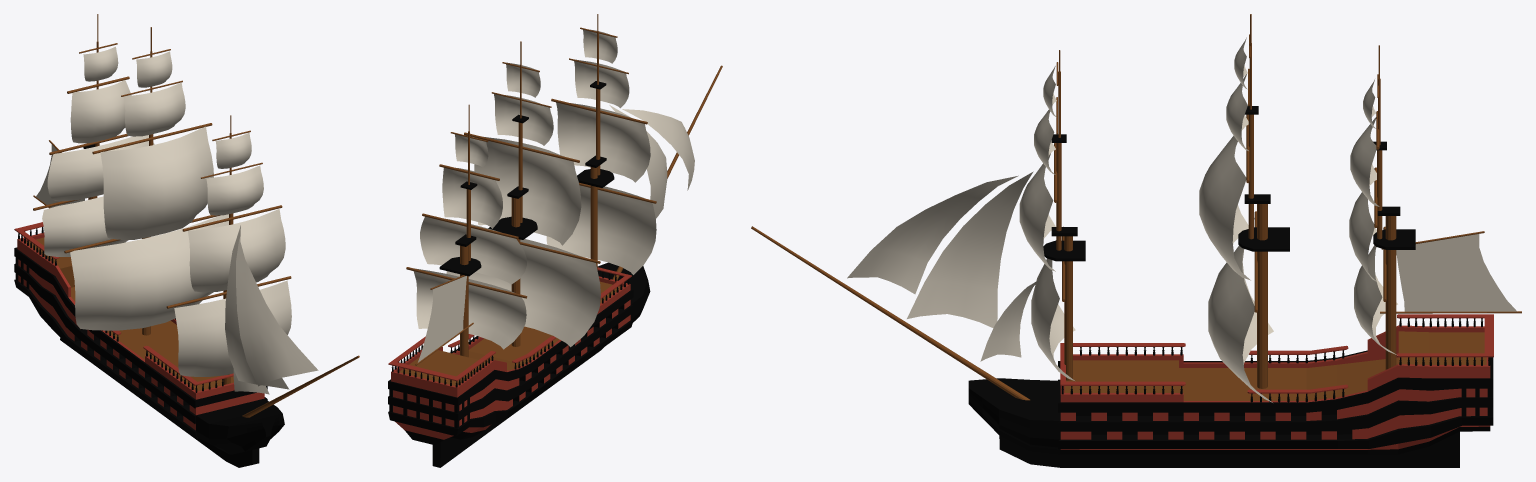
Rendered from Man O' War.glb.
3 renders of one model, left to right at view 1: azimuth 30°, elevation 25°; view 2: azimuth 150°, elevation 25°; view 3: azimuth 270°, elevation 25°, orthographic. The views are drawn at different scales.
Parts seen in each view (by area): view 1: Sails, Body, Poles; view 2: Sails, Body, Poles; view 3: Body, Sails, Poles.
Boxes of the visible parts, left/top/right/bottom form: Sails: left=36, top=46, right=318, bottom=394; Body: left=14, top=222, right=284, bottom=467; Poles: left=33, top=14, right=359, bottom=417; Sails: left=413, top=29, right=694, bottom=362; Body: left=388, top=262, right=650, bottom=467; Poles: left=406, top=14, right=722, bottom=365; Body: left=968, top=314, right=1493, bottom=467; Sails: left=847, top=37, right=1516, bottom=402; Poles: left=751, top=14, right=1521, bottom=400.
Bounding box in the file's own units: 23.7 × 50.63 × 78.39.
